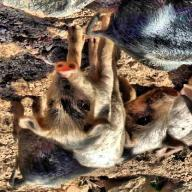boar: (14, 82, 184, 192), (34, 41, 137, 176)
